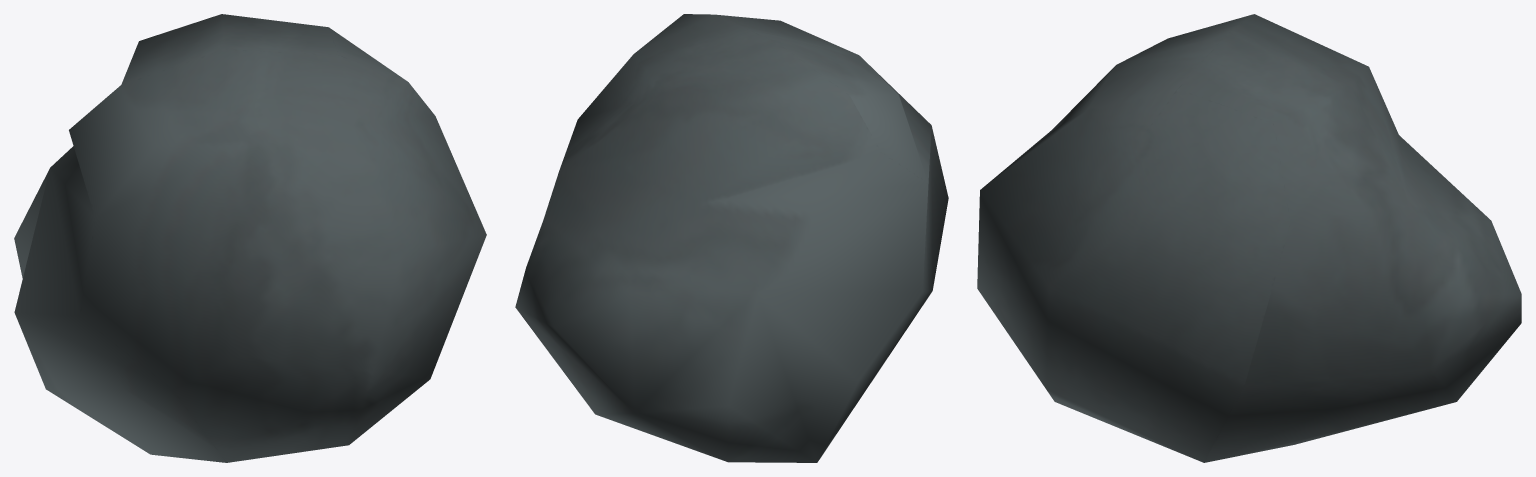
Rendered from rockSmall.fbx.
3 renders of one model, left to right at view 1: azimuth 30°, elevation 25°; view 2: azimuth 150°, elevation 25°; view 3: azimuth 270°, elevation 25°, orthographic. The views are drawn at different scales.
Parts seen in each view (by area): view 1: Cube.002; view 2: Cube.002; view 3: Cube.002.
Boxes of the visible parts, x1=… form: Cube.002: x1=14, y1=14, x2=486, y2=462; Cube.002: x1=515, y1=14, x2=948, y2=462; Cube.002: x1=977, y1=14, x2=1521, y2=462.
Bounding box in the file's own units: 98.42 × 100 × 121.
